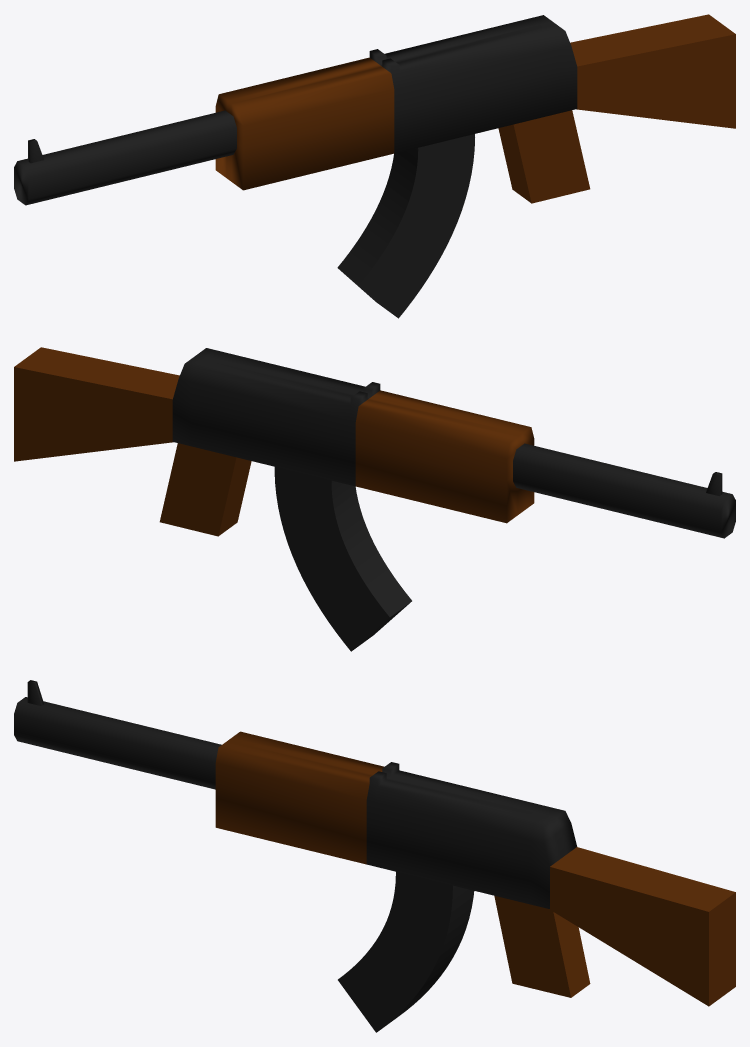
3 views of the same model, one above another, from view 1: azimuth 30°, elevation 25°; view 2: azimuth 150°, elevation 25°; view 3: azimuth 330°, elevation 25° (orthographic).
Visible parts, largest first — view 1: Cube, Cube.007, Cube.008, Cube.005, Cube.004; view 2: Cube, Cube.007, Cube.008, Cube.005, Cube.004; view 3: Cube, Cube.007, Cube.008, Cube.005, Cube.004.
Boxes of the visible parts, x1,y1,x2,y2 form: Cube: (215,15,577,190); Cube.007: (570,14,735,128); Cube.008: (337,134,474,318); Cube.005: (14,110,236,205); Cube.004: (498,110,590,203); Cube: (172,348,534,523); Cube.007: (14,347,179,461); Cube.008: (274,467,411,651); Cube.005: (513,443,735,538); Cube.004: (159,443,251,536); Cube: (215,731,577,908); Cube.007: (549,847,735,1006); Cube.008: (338,871,474,1032); Cube.005: (14,697,221,789); Cube.004: (494,895,590,997).
Size of the model in its own units: 4.24 by 1.48 by 0.2877.
